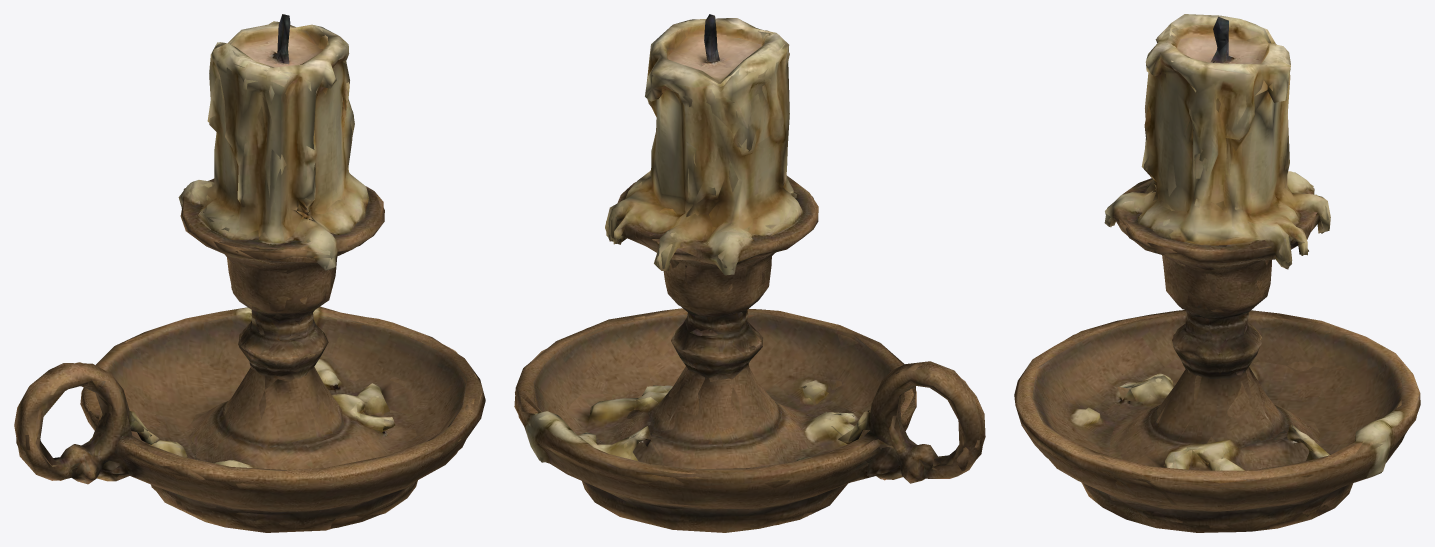
Rendered from candlestick.glb.
3 views of the same model, side by side, from view 1: azimuth 30°, elevation 25°; view 2: azimuth 150°, elevation 25°; view 3: azimuth 270°, elevation 25° (orthographic).
Visible parts, largest first — view 1: prop-candlestick; view 2: prop-candlestick; view 3: prop-candlestick.
Part boxes in pixels (<box>): prop-candlestick: <box>14,14,485,532</box>; prop-candlestick: <box>514,14,985,532</box>; prop-candlestick: <box>1014,14,1420,532</box>.
Size of the model in its own units: 1 by 1 by 0.7942.
Materials: 1 (1 with a texture image).
